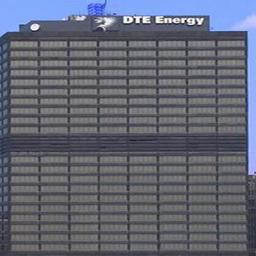building: (7, 15, 248, 255)
